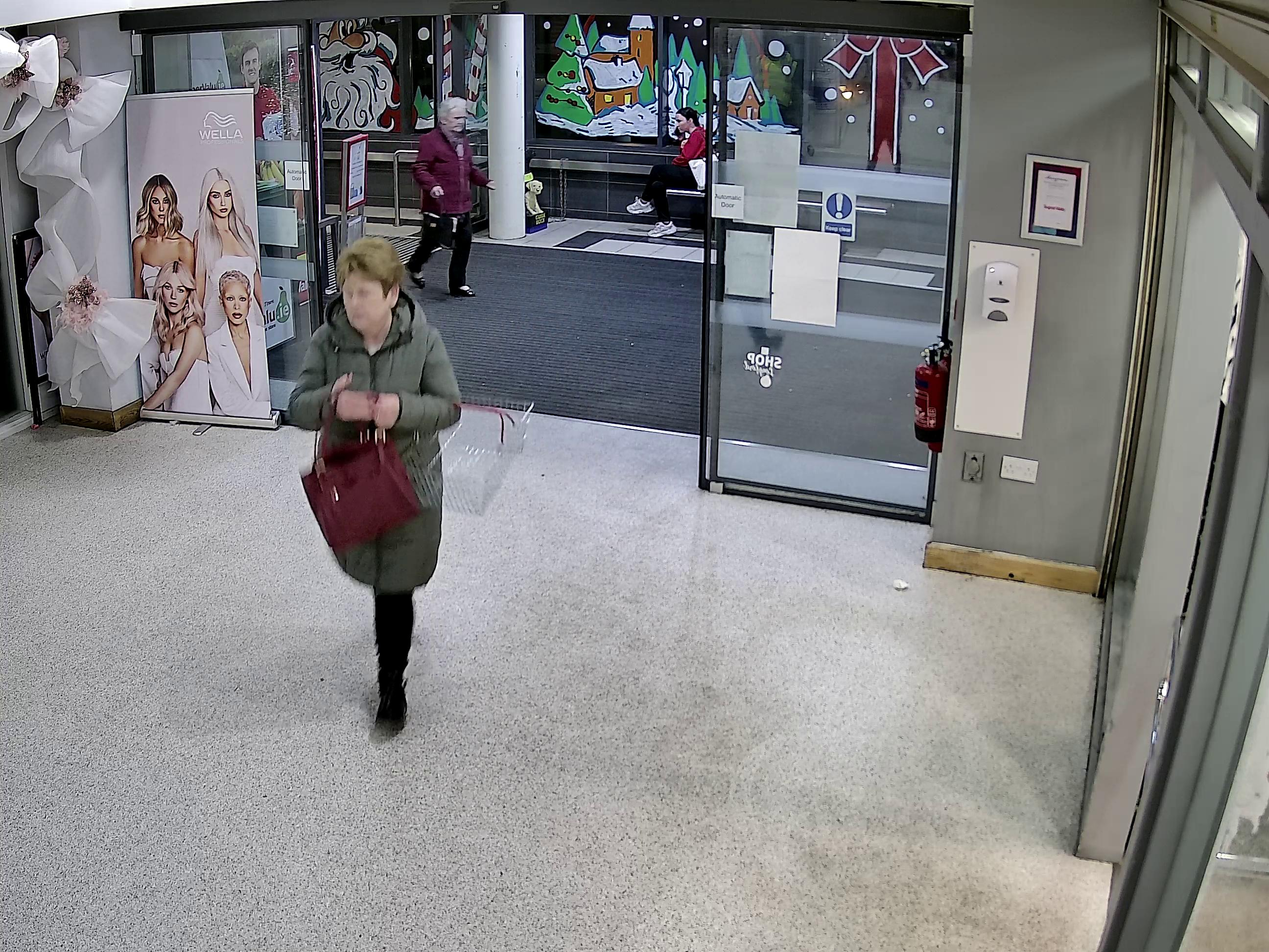backpack-or-handbag: (298, 431, 419, 557)
empty-basket: (404, 386, 534, 514)
person: (288, 235, 461, 730)
person-with-basket-trolly-and-backpack-handbag: (288, 234, 536, 731)
